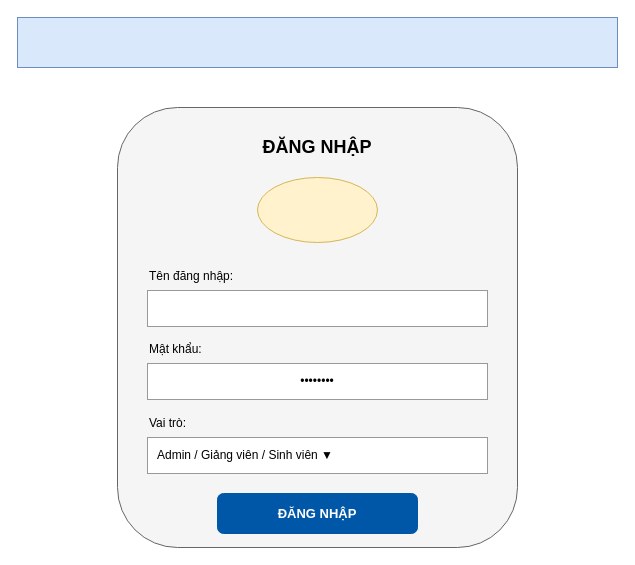
Some shapes in this 635 by 565 pixel diagram are drawn without their labels. Each missing label, with the box of its shape:
[LOGO TRƯỜNG]: (256, 176, 378, 242)
Hệ Thống Quản Lý Đặt Phòng Học: (16, 16, 618, 68)
